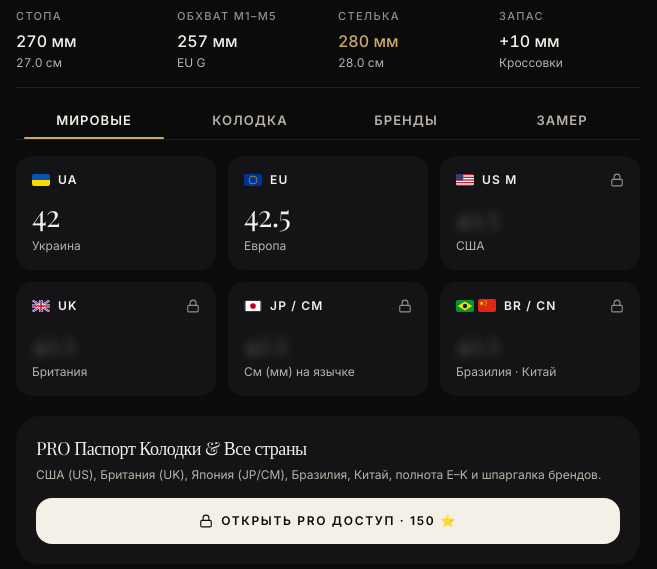
Test: SizeCalcPage — интеграционные тесты › проходит полный цикл оплаты Telegram Stars и открывает PRO-доступ
The width and height of the screenshot is (657, 569).
(page scrolled)
Click the button "ОТКРЫТЬ PRO ДОСТУП · 150 ⭐️".
click(328, 521)  # box left=36, top=498, right=620, bottom=544
(page scrolled)
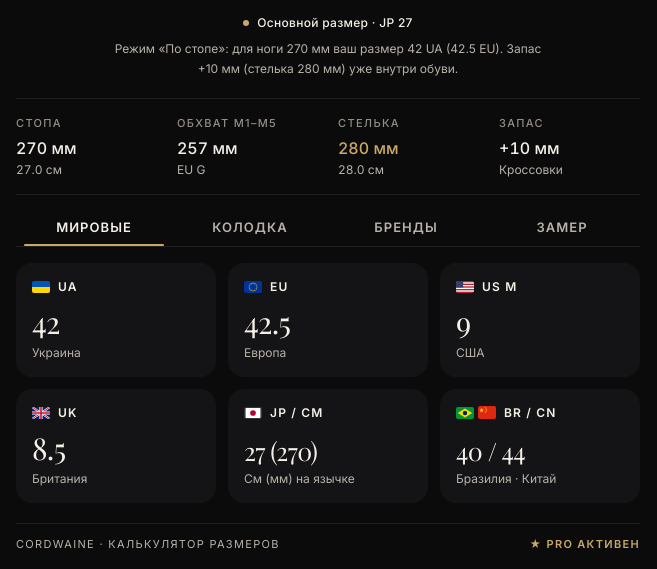
Expected: the text "★ PRO АКТИВЕН" is shown, left=530, top=536, right=640, bottom=552
